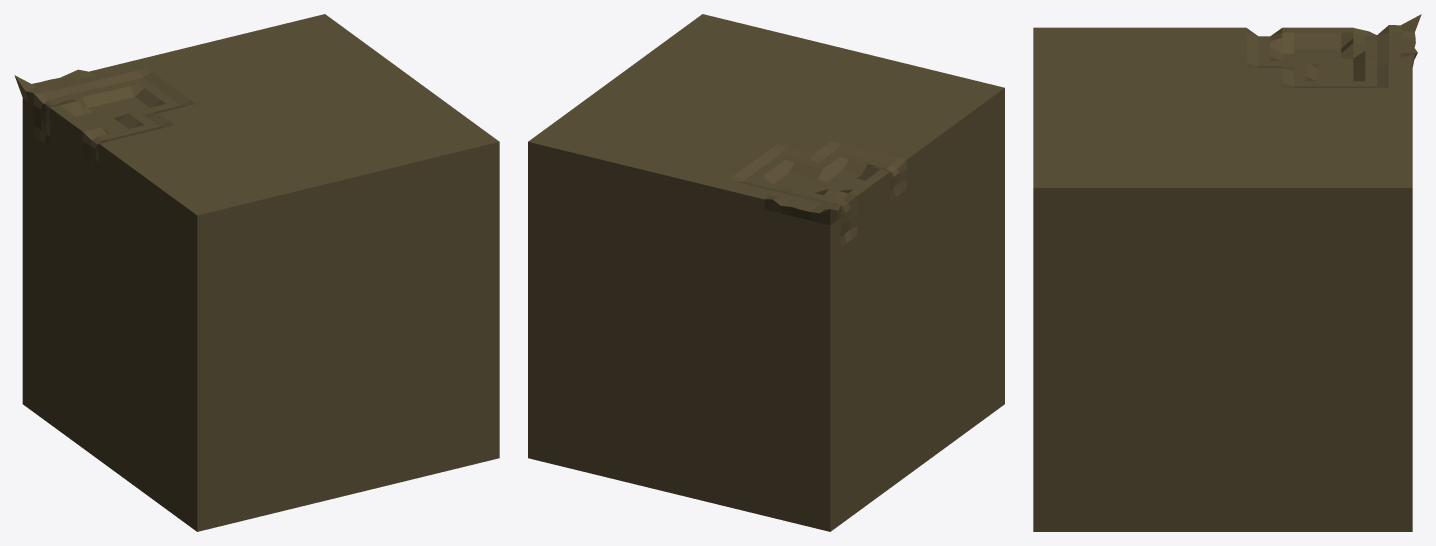
The model's file is level1.fbx.
3 views of the same model, side by side, from view 1: azimuth 30°, elevation 25°; view 2: azimuth 150°, elevation 25°; view 3: azimuth 270°, elevation 25° (orthographic). The views are drawn at different scales.
Visible parts, largest first — view 1: World; view 2: World; view 3: World.
Boxes of the visible parts, box(x1,y1,x2,y2) form: World: box(14, 14, 499, 531); World: box(528, 14, 1004, 531); World: box(1033, 14, 1421, 531).
Bounding box in the file's own units: 2027 × 2068 × 2048.
